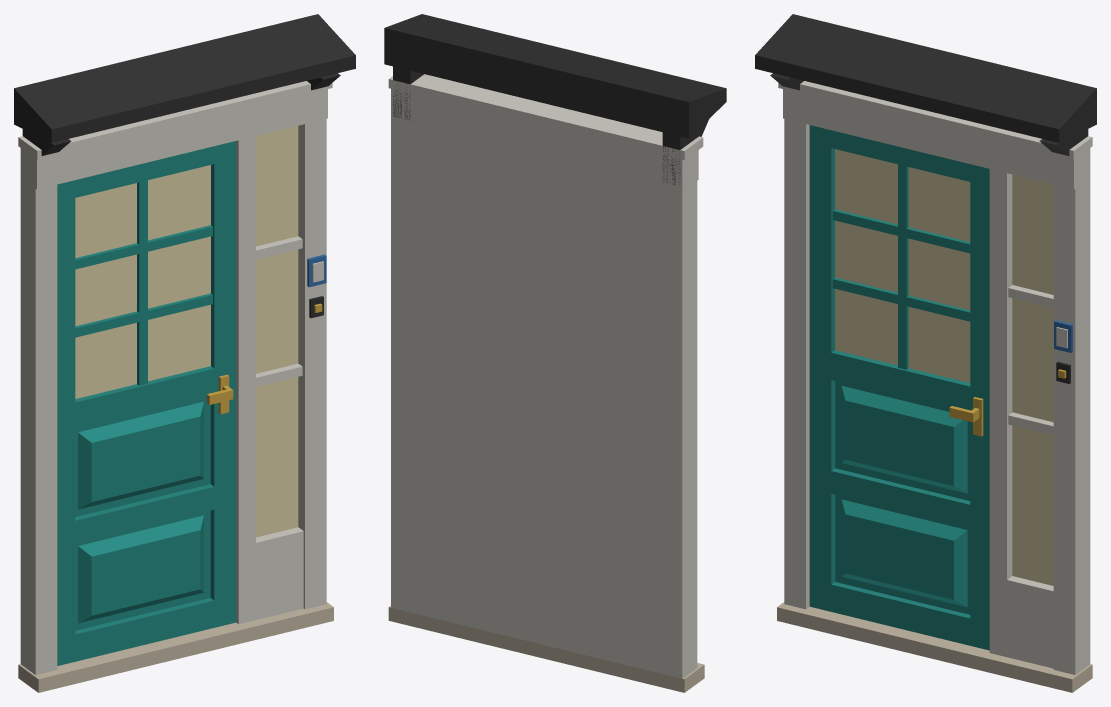
Rendered from kapi_camli_2.glb.
3 views of the same model, side by side, from view 1: azimuth 30°, elevation 25°; view 2: azimuth 150°, elevation 25°; view 3: azimuth 330°, elevation 25° (orthographic).
Visible parts, largest first — view 1: kapi_camli_2; view 2: kapi_camli_2; view 3: kapi_camli_2.
Part boxes in pixels (box(x1,y1,x2,y2)): kapi_camli_2: box(14, 14, 355, 692); kapi_camli_2: box(384, 14, 726, 692); kapi_camli_2: box(755, 14, 1096, 692).
Size of the model in its own units: 1.4 by 2.6 by 0.3.
